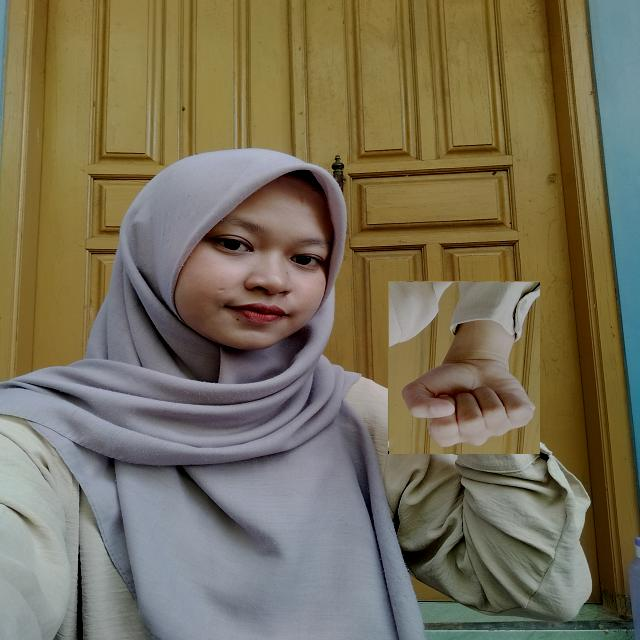baik: (388, 281, 540, 454)
